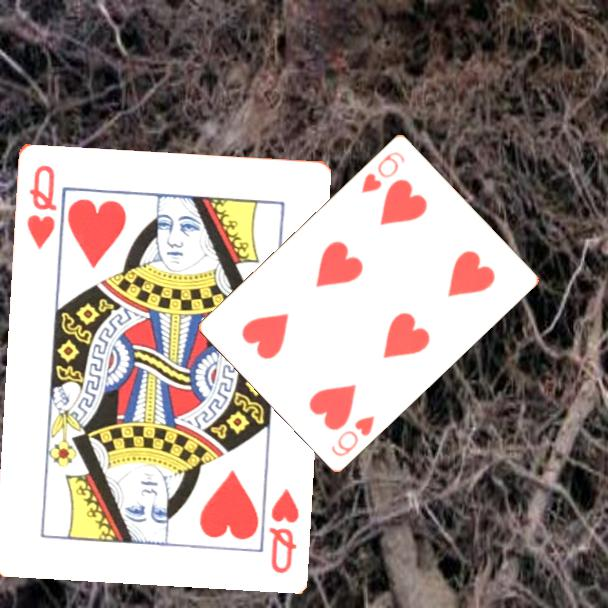h06: (357, 147, 408, 196), (328, 412, 378, 459)
h12: (265, 485, 302, 576), (23, 161, 59, 252)
